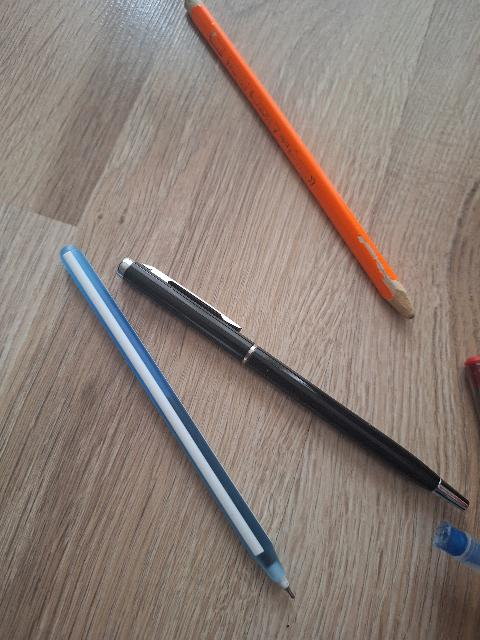writing_tool: (115, 257, 473, 517), (56, 245, 300, 607), (182, 0, 421, 325)
